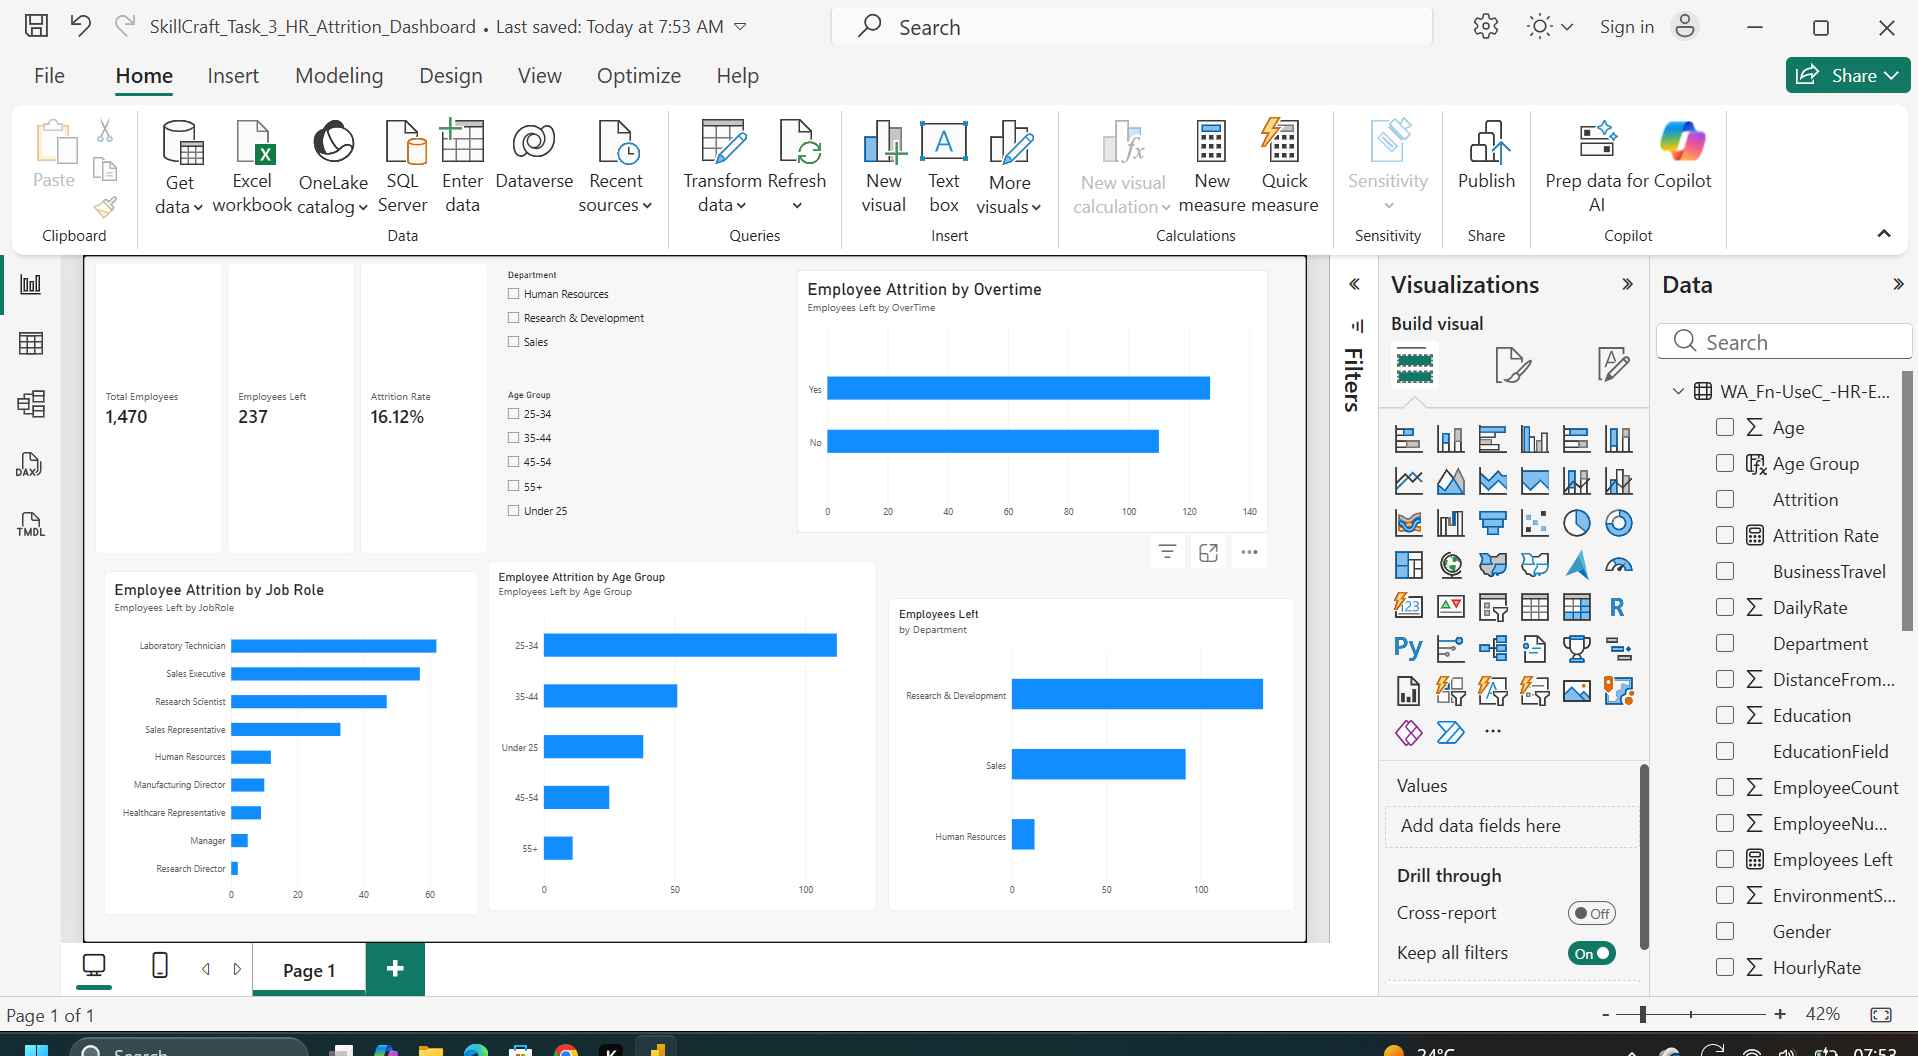

Layout of this report page (visuals, bound fields, positions):
{"tool":"powerbi","page":{"name":"Page 1","canvas":[1920,1080],"ordinal":0},"visuals":[{"type":"cardVisual","fields":{"Data":["WA_Fn-UseC_-HR-Employee-Attrition csv.Total Employees","WA_Fn-UseC_-HR-Employee-Attrition csv.Employees Left","WA_Fn-UseC_-HR-Employee-Attrition csv.Attrition Rate"]},"box":[18.8,11.8,617.5,457.5],"z":0},{"type":"clusteredBarChart","fields":{"Category":["WA_Fn-UseC_-HR-Employee-Attrition csv.Department"],"Y":["WA_Fn-UseC_-HR-Employee-Attrition csv.Employees Left"]},"box":[1264.5,539.2,638.1,489.8],"z":1},{"type":"slicer","fields":{"Values":["WA_Fn-UseC_-HR-Employee-Attrition csv.Age Group"]},"box":[659.3,211.9,400.3,256.7],"z":2},{"type":"slicer","fields":{"Values":["WA_Fn-UseC_-HR-Employee-Attrition csv.Department"]},"box":[659.3,23.5,435.6,249.6],"z":3},{"type":"clusteredBarChart","title":"Employee Attrition by Overtime","fields":{"Category":["WA_Fn-UseC_-HR-Employee-Attrition csv.OverTime"],"Y":["WA_Fn-UseC_-HR-Employee-Attrition csv.Employees Left"]},"box":[1120.8,23.5,739.4,412.1],"z":4},{"type":"clusteredBarChart","title":"Employee Attrition by Job Role","fields":{"Category":["WA_Fn-UseC_-HR-Employee-Attrition csv.JobRole"],"Y":["WA_Fn-UseC_-HR-Employee-Attrition csv.Employees Left"]},"box":[33,496.8,588.7,539.2],"z":5},{"type":"clusteredBarChart","title":"Employee Attrition by Age Group","fields":{"Category":["WA_Fn-UseC_-HR-Employee-Attrition csv.Age Group"],"Y":["WA_Fn-UseC_-HR-Employee-Attrition csv.Employees Left"]},"box":[635.8,480.4,609.9,548.6],"z":6}]}

Visuals, with their boxes on the page's 1920x1080 design canvas (x1, y1, x2, y2). These are canvas units, not pixel positions in the 1918x1056 screenshot, which may show the page scaled, cropped or inside an application window:
cardVisual - WA_Fn-UseC_-HR-Employee-Attrition csv.Total Employees x WA_Fn-UseC_-HR-Employee-Attrition csv.Employees Left: <bbox>19, 12, 636, 469</bbox>
clusteredBarChart - WA_Fn-UseC_-HR-Employee-Attrition csv.Department x WA_Fn-UseC_-HR-Employee-Attrition csv.Employees Left: <bbox>1264, 539, 1903, 1029</bbox>
slicer - WA_Fn-UseC_-HR-Employee-Attrition csv.Age Group: <bbox>659, 212, 1060, 469</bbox>
slicer - WA_Fn-UseC_-HR-Employee-Attrition csv.Department: <bbox>659, 24, 1095, 273</bbox>
"Employee Attrition by Overtime" clusteredBarChart: <bbox>1121, 24, 1860, 436</bbox>
"Employee Attrition by Job Role" clusteredBarChart: <bbox>33, 497, 622, 1036</bbox>
"Employee Attrition by Age Group" clusteredBarChart: <bbox>636, 480, 1246, 1029</bbox>
